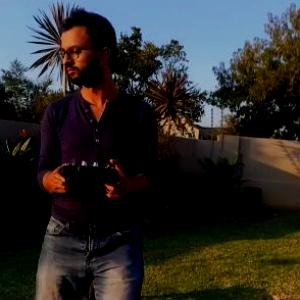follow: (32, 4, 161, 299)
